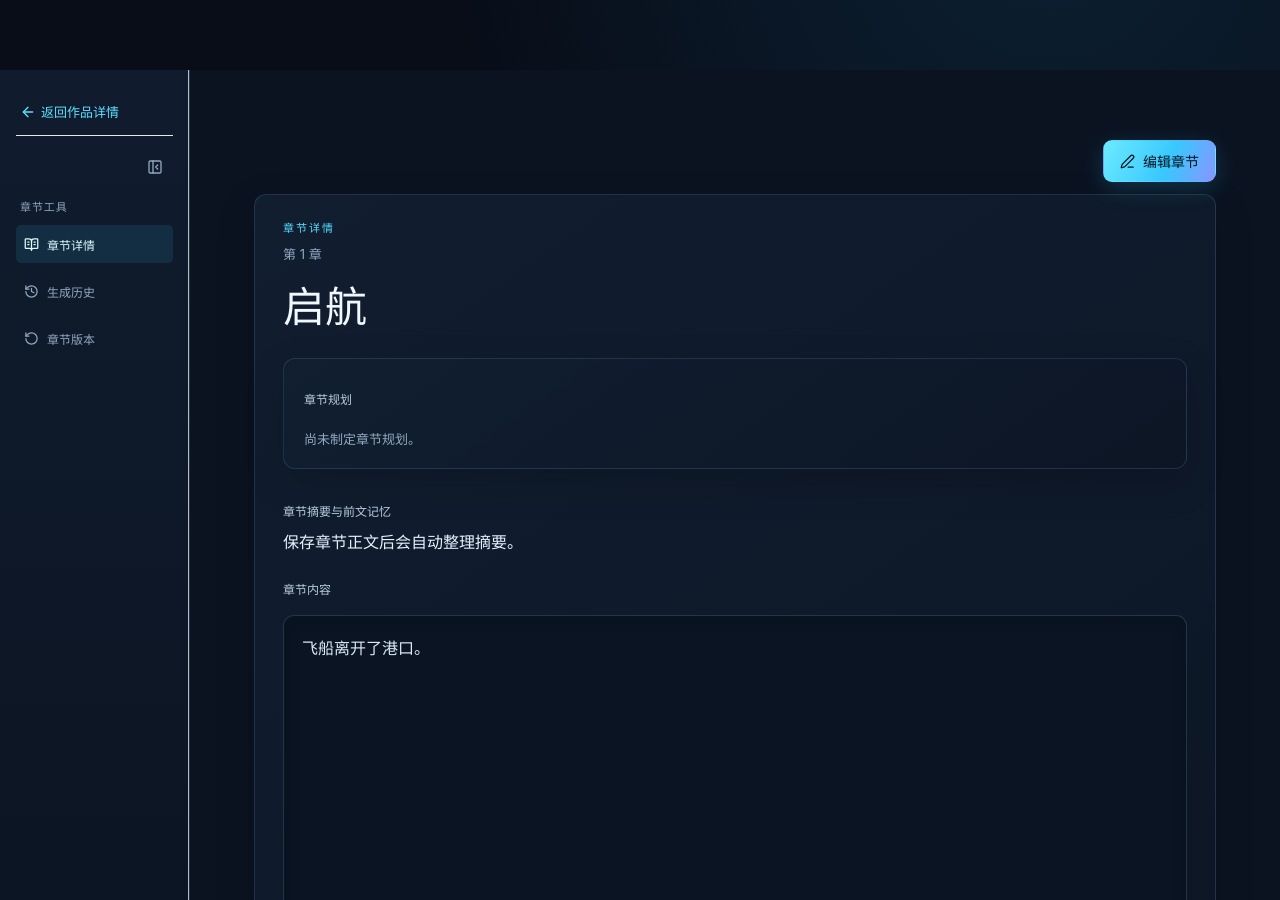
Test case: 章节详情页 › 编辑章节时显示章节规划智能生成入口并将结果填入规划字段
Expected: the heading "启航" is shown, [283,281,367,332]
Click the button "编辑章节".
click(1160, 161)  # box [1103,140,1216,182]
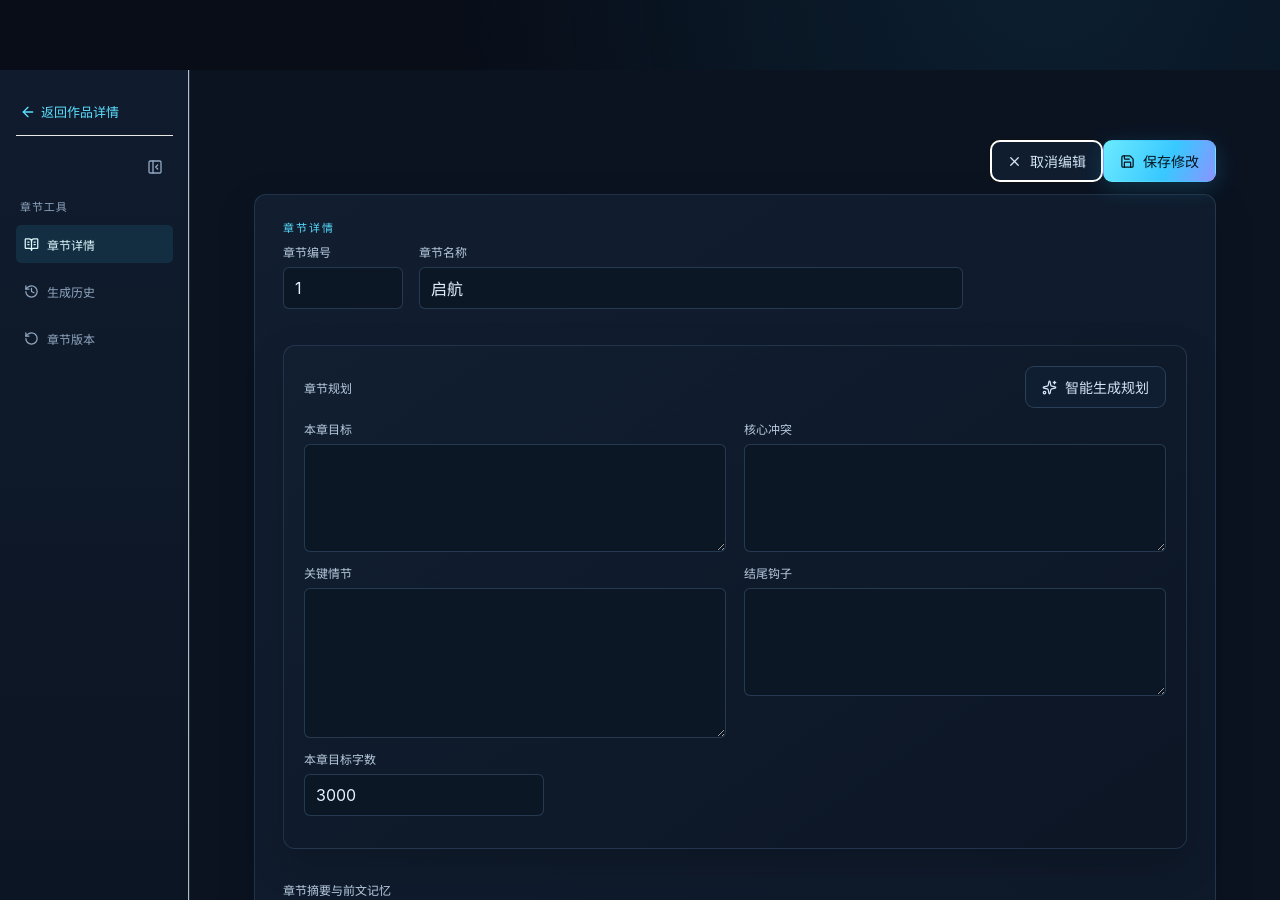
Click the button "智能生成规划".
click(1096, 387)  # box [1025,366,1166,408]
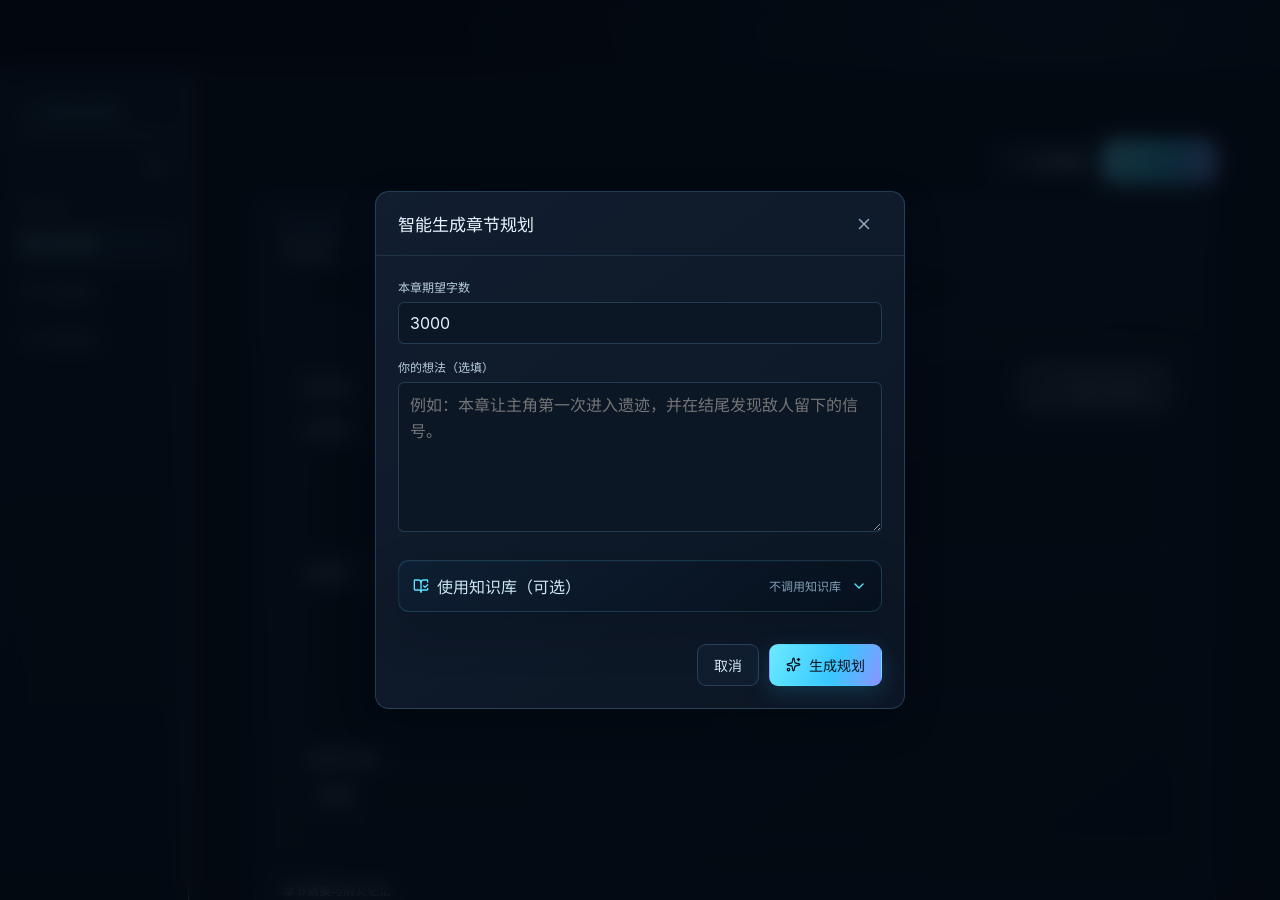
Type "让主角发现神秘信号" into the text box named "章节规划想法".
click(640, 457); type("让主角发现神秘信号")  # box [398,382,882,532]
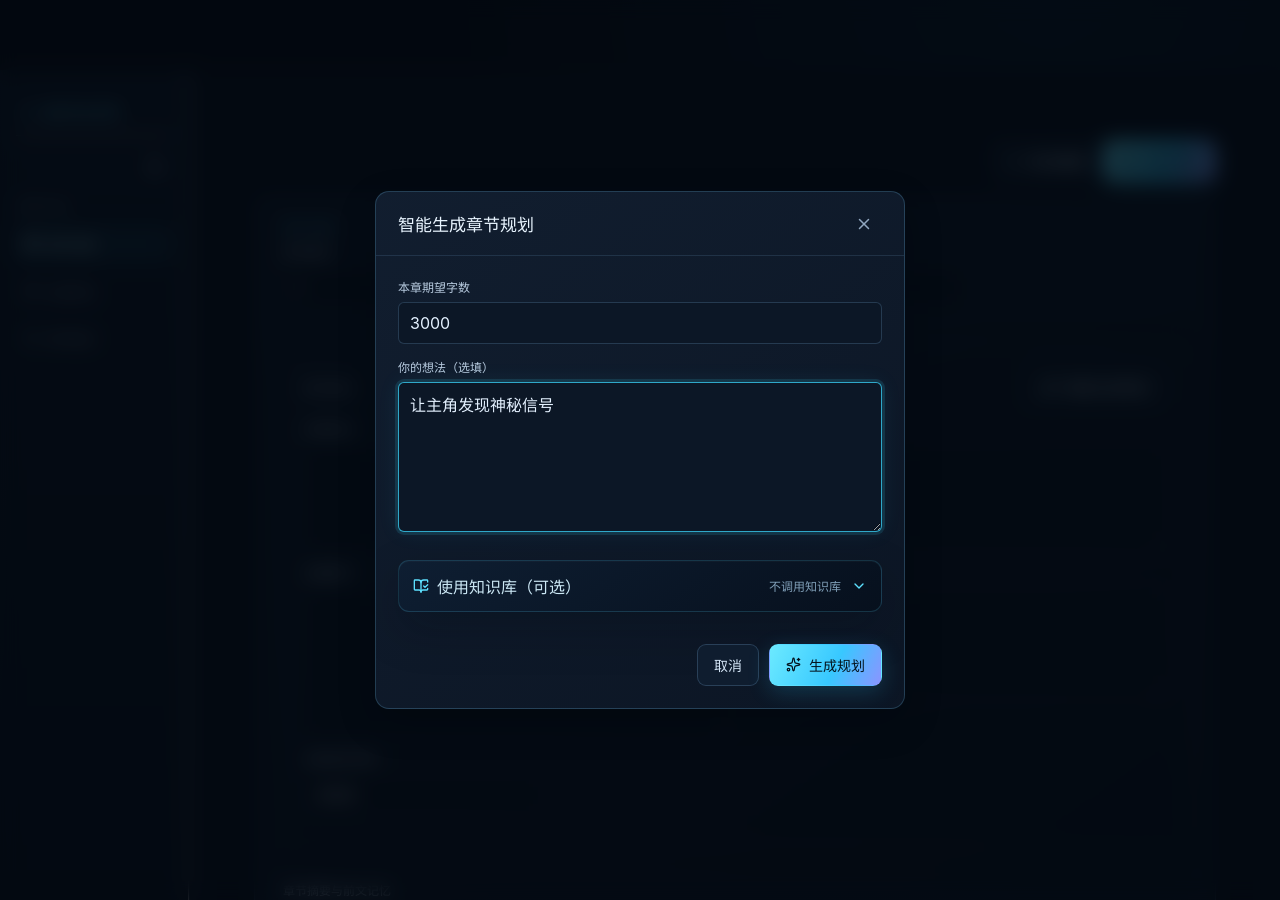
Click the button "生成规划".
click(826, 665)  # box [769,644,882,686]
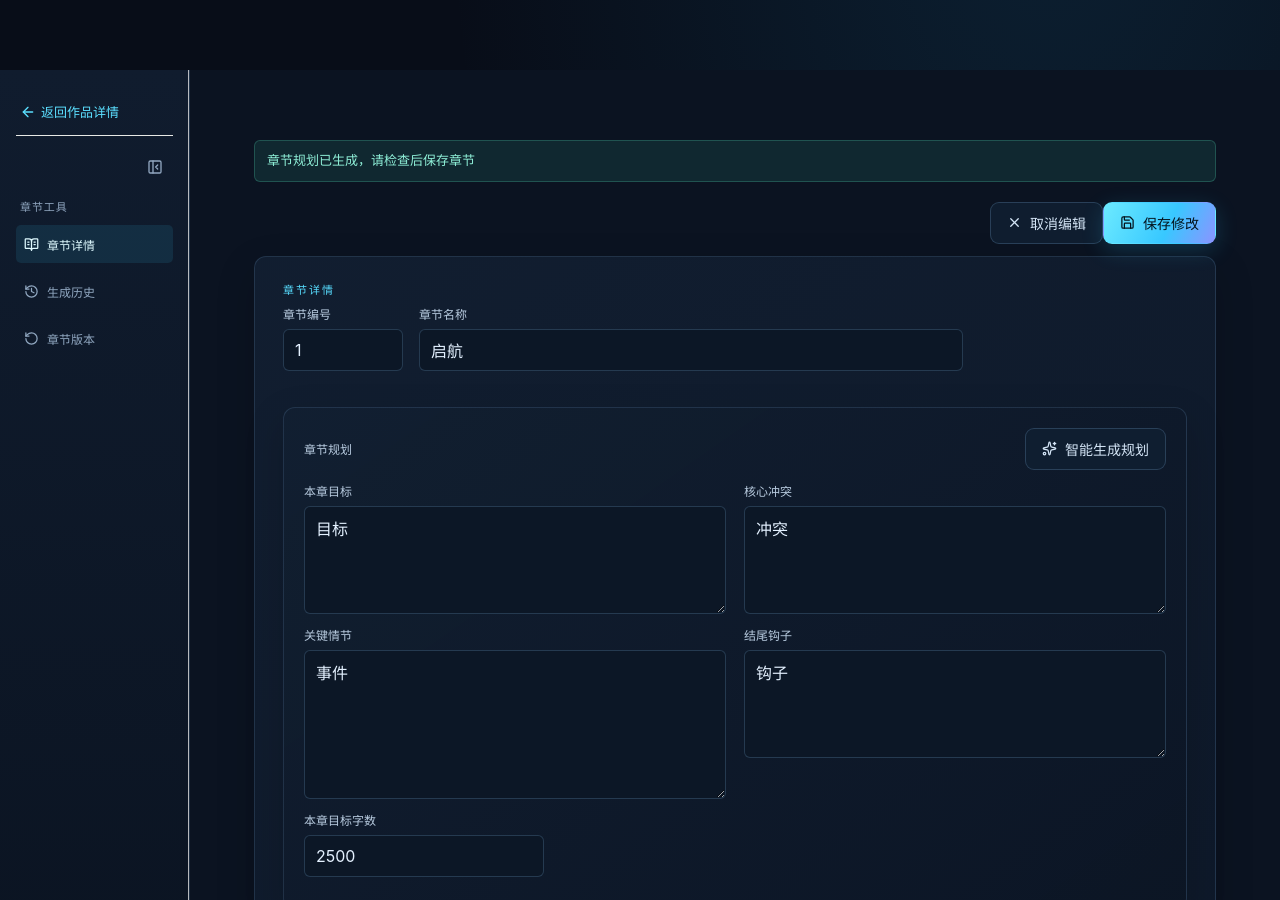
Expected: the text box labelled "本章目标" holds "目标", [304,506,726,614]
